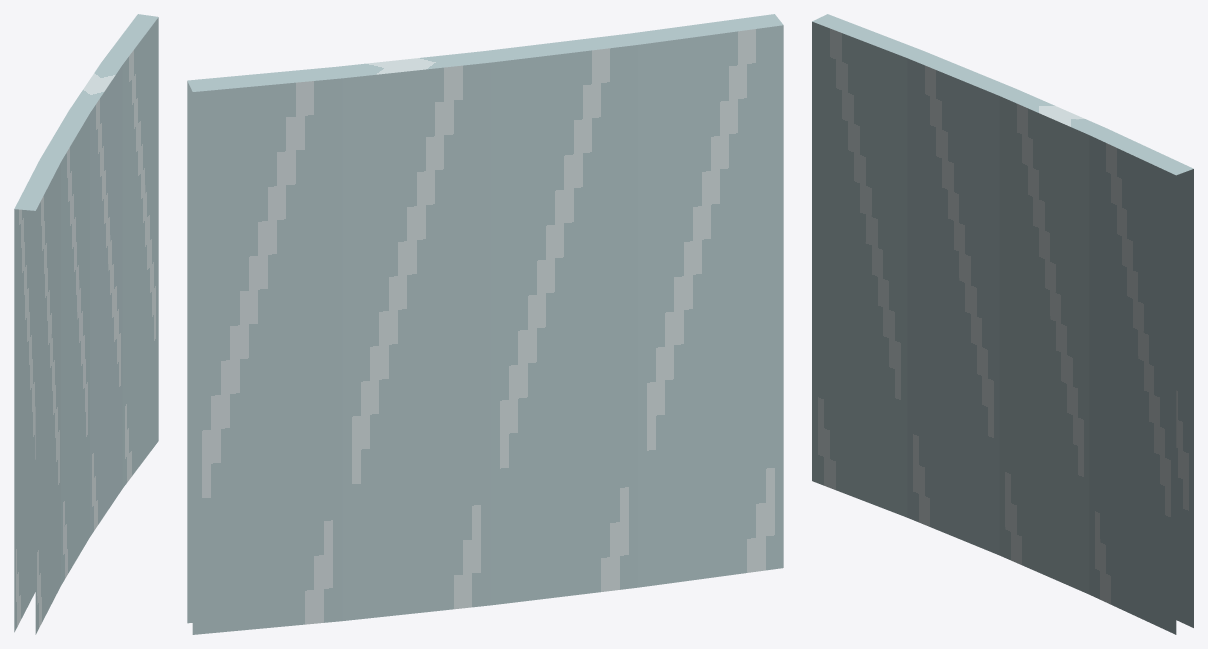
The model's file is curve_glass_07.obj.
3 views of the same model, side by side, from view 1: azimuth 30°, elevation 25°; view 2: azimuth 150°, elevation 25°; view 3: azimuth 270°, elevation 25° (orthographic). The views are drawn at different scales.
Parts seen in each view (by area): view 1: curve_glass_07; view 2: curve_glass_07; view 3: curve_glass_07.
Boxes of the visible parts, x1,y1,x2,y2 form: curve_glass_07: [14, 14, 158, 634]; curve_glass_07: [187, 14, 783, 634]; curve_glass_07: [812, 14, 1193, 634].
Size of the model in its own units: 0.7533 by 1 by 0.7533.
